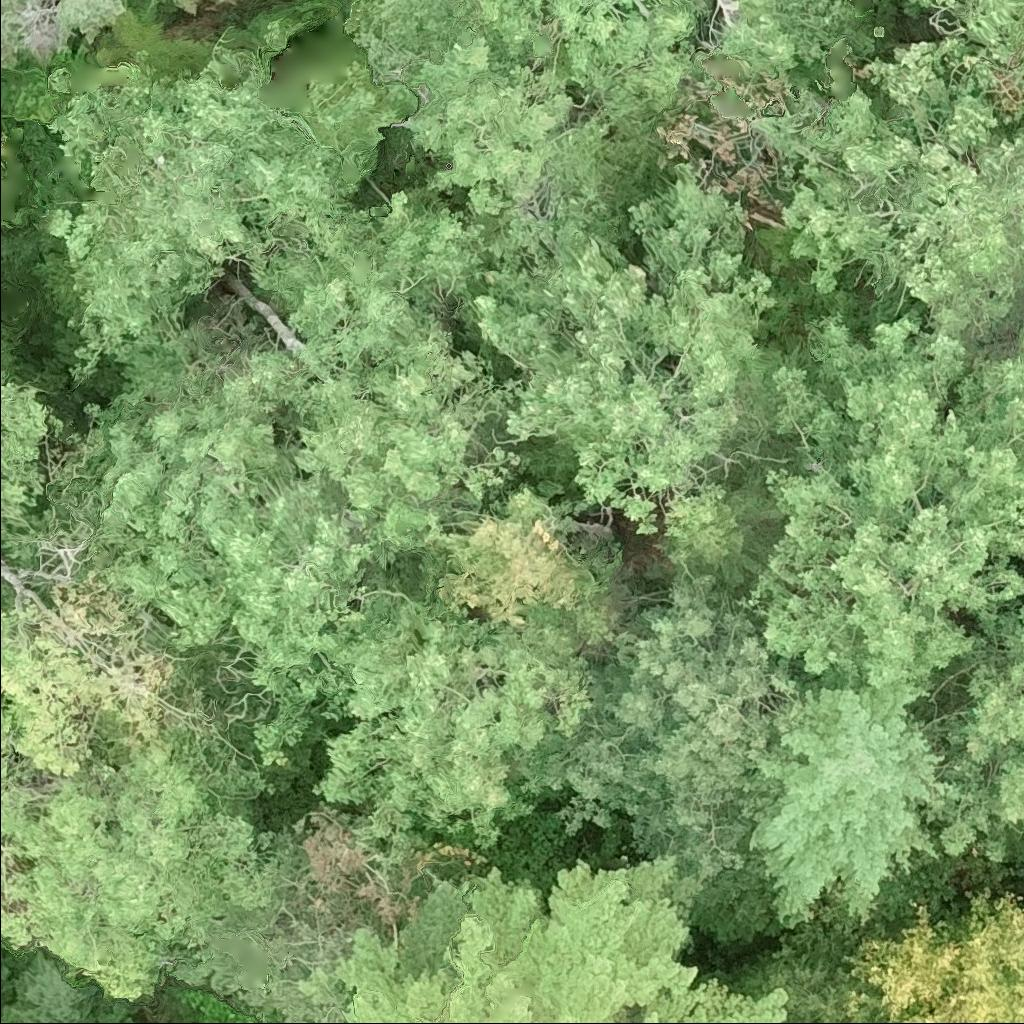crown: (444, 158, 803, 598), (70, 330, 418, 778), (223, 183, 525, 560), (731, 304, 1023, 688), (45, 47, 365, 386), (0, 709, 301, 1004), (298, 848, 793, 1023), (523, 569, 797, 882), (749, 32, 1023, 340), (308, 560, 596, 853), (389, 22, 673, 261), (744, 669, 966, 934), (343, 0, 713, 138), (412, 471, 631, 659), (730, 884, 1023, 1023), (0, 574, 171, 791), (925, 598, 1023, 867), (909, 0, 1023, 126), (309, 60, 415, 185), (708, 0, 872, 78), (0, 362, 63, 522), (0, 896, 36, 952), (0, 122, 11, 177)
